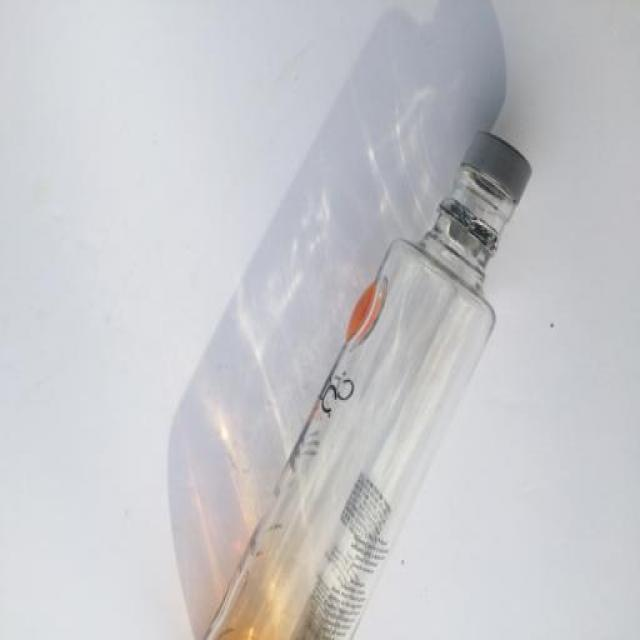Waste: (208, 133, 531, 640)
